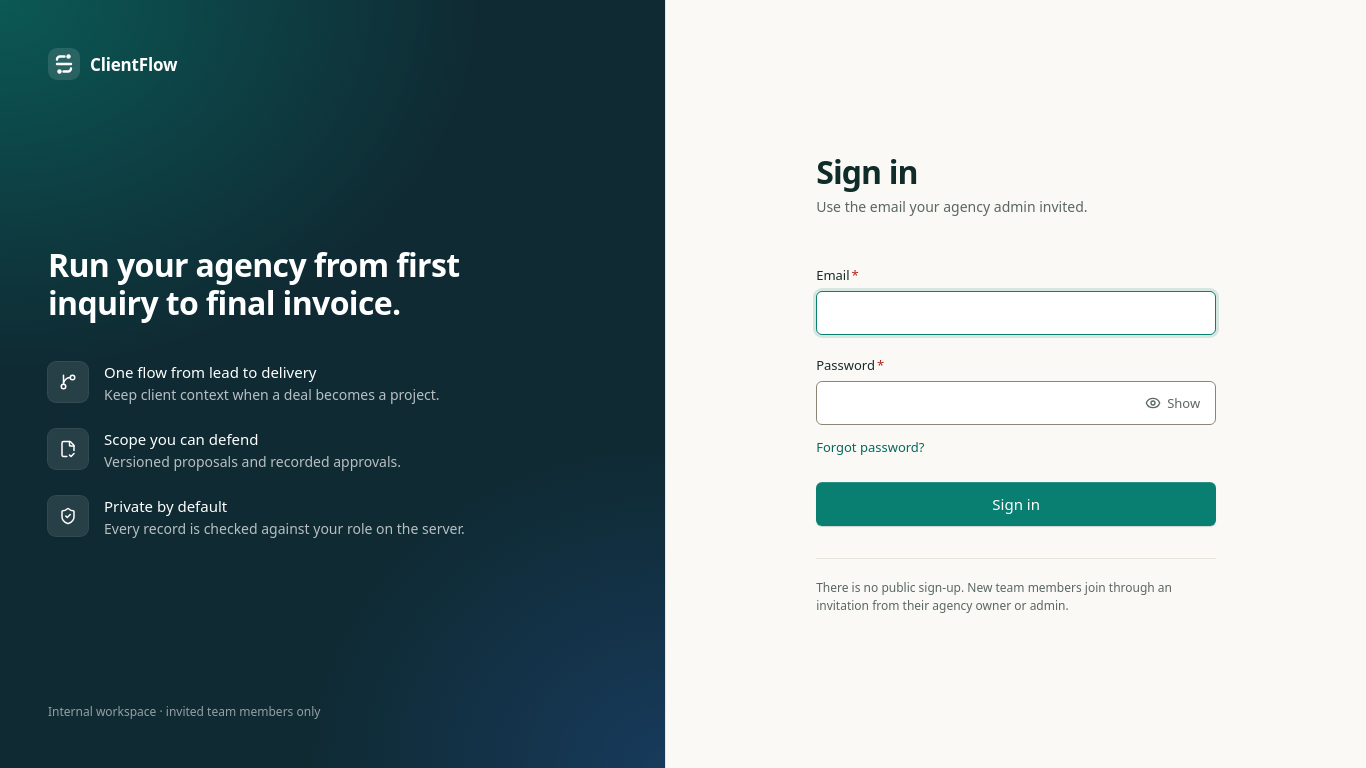
Test case: LoginPage › explains throttling when the API returns 429
The image size is (1366, 768).
Type "nour@agency.test" into the field labelled "Email*". click: (1016, 313)
box: left=816, top=291, right=1216, bottom=335
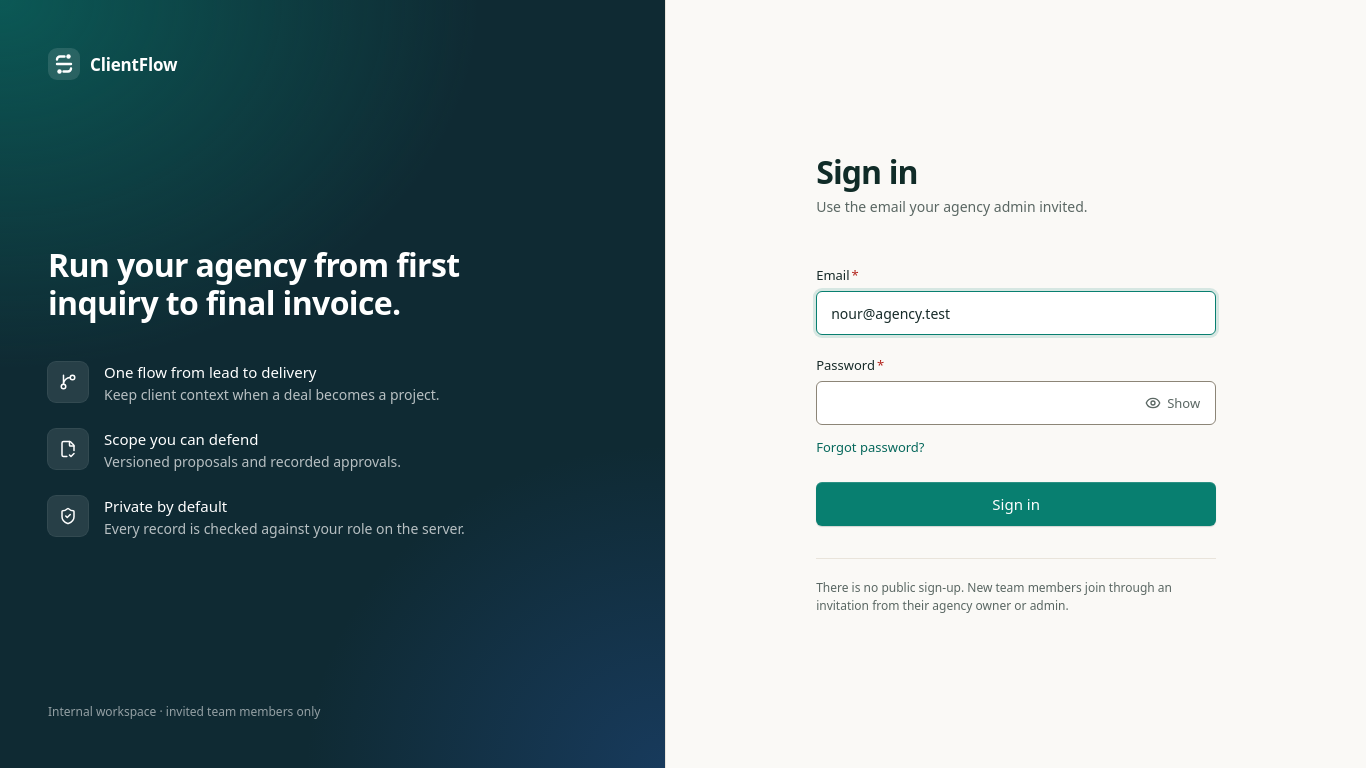
Type "whatever-password" into the password field labelled "Password*". click: (1016, 403)
box: left=816, top=381, right=1216, bottom=425
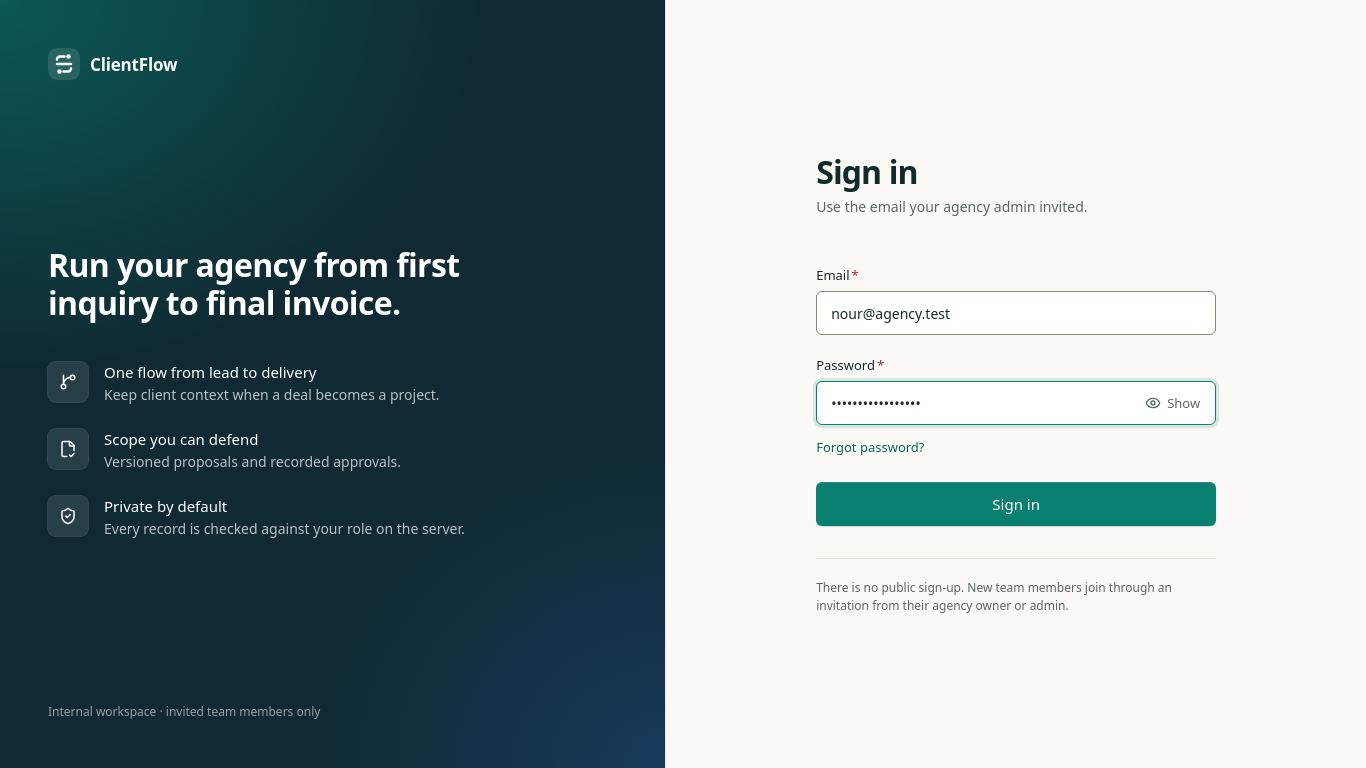
Click the button "Sign in". click: (1016, 504)
box: left=816, top=482, right=1216, bottom=526
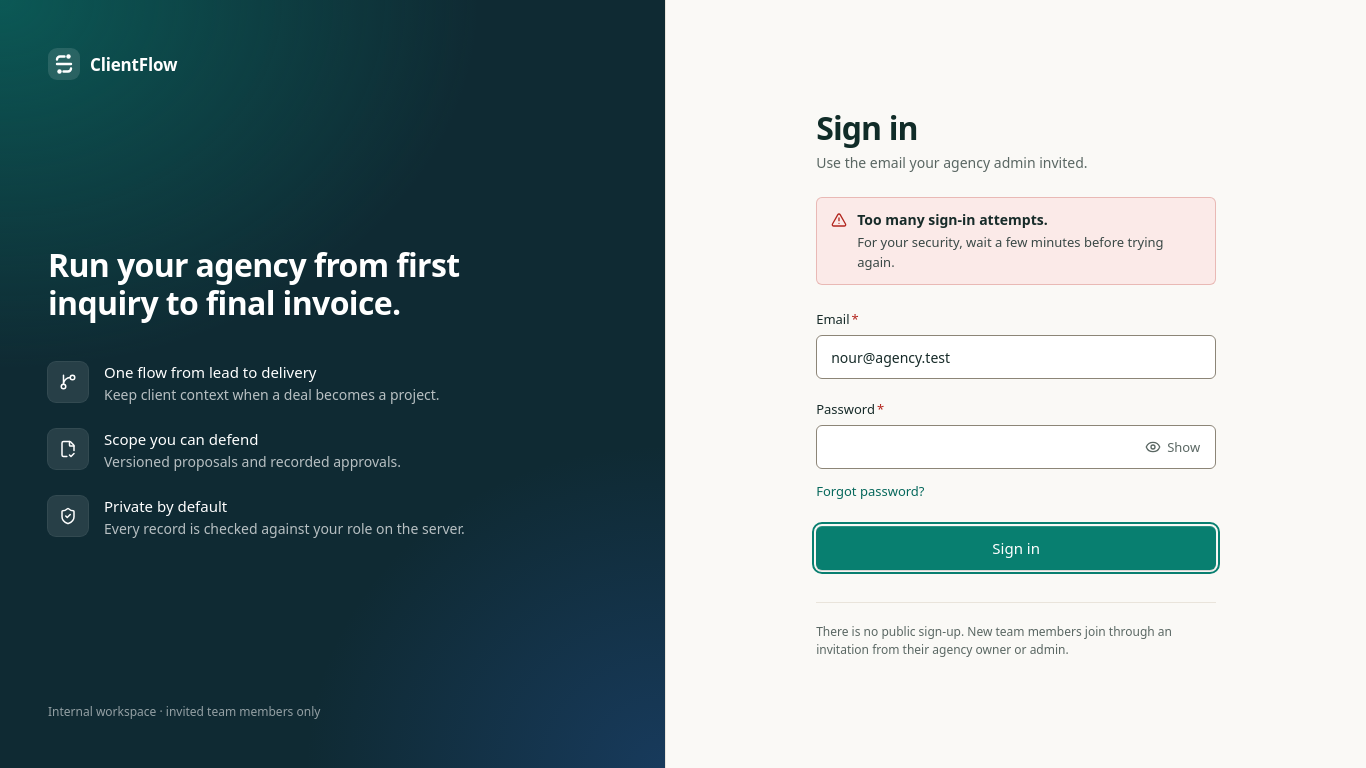
Expected: the message shows "Too many sign-in attempts.", left=857, top=210, right=1048, bottom=229
